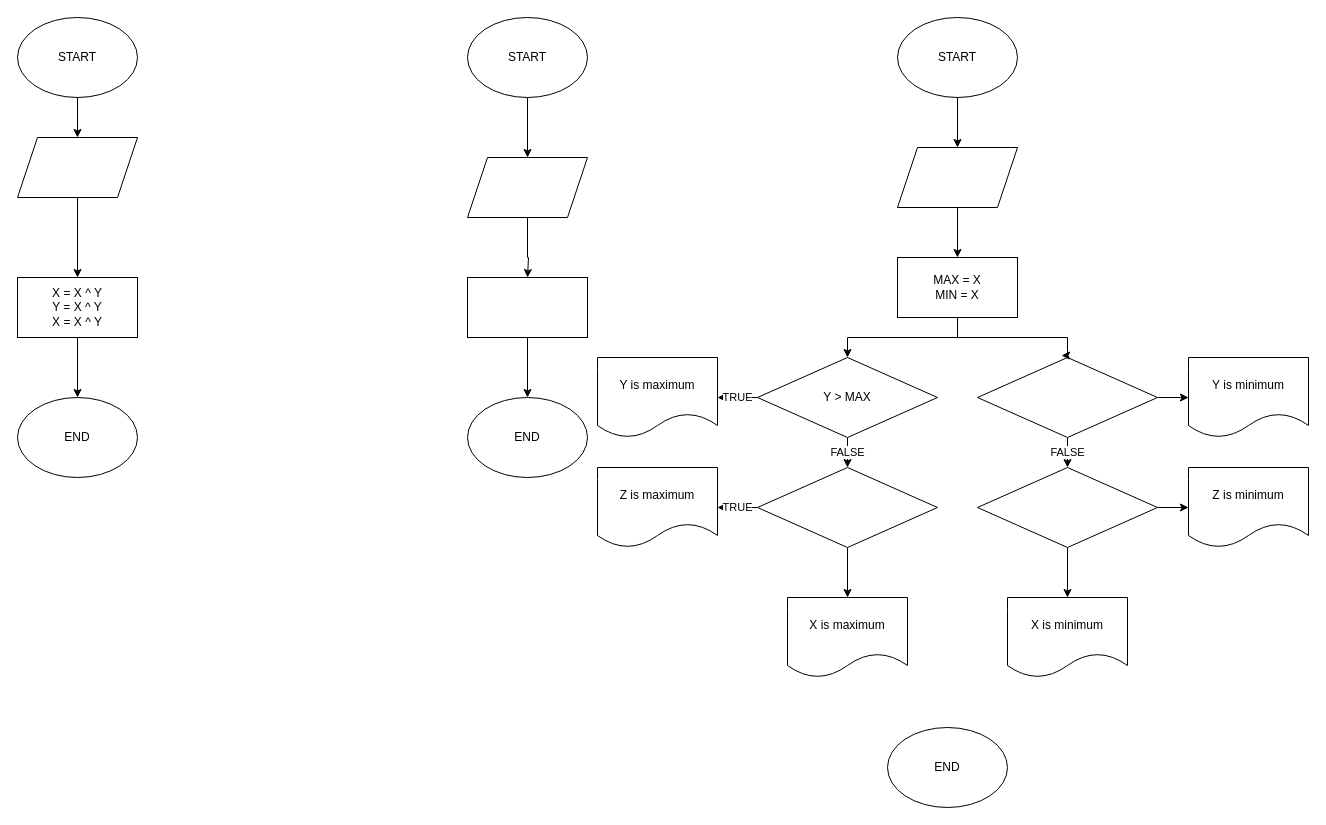
The diagram is 1326 pixels wide and 825 high, and some of its shapes have lost their labels. Here are the shapes that lost their labels. From the top down, the box of each, then its label:
(16, 136, 138, 198): X, Y
(466, 156, 588, 218): X, Y, TEMP
(896, 146, 1018, 208): X, Y, Z, MIN, MAX
(466, 276, 588, 338): TEMP = X X = Y Y = TEMP
(976, 356, 1158, 438): Y < MIN
(756, 466, 938, 548): Z > MAX
(976, 466, 1158, 548): Z < MIN
